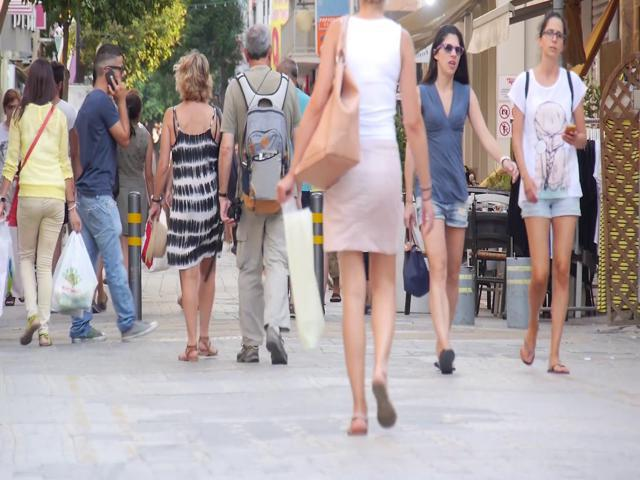shoe: (373, 380, 396, 428), (519, 321, 540, 364), (266, 327, 287, 365), (122, 321, 158, 342), (19, 314, 40, 345), (70, 328, 109, 342), (346, 412, 369, 435), (438, 349, 455, 374), (236, 345, 259, 363), (198, 336, 218, 356), (177, 345, 199, 363), (548, 362, 569, 374), (37, 336, 53, 347)
